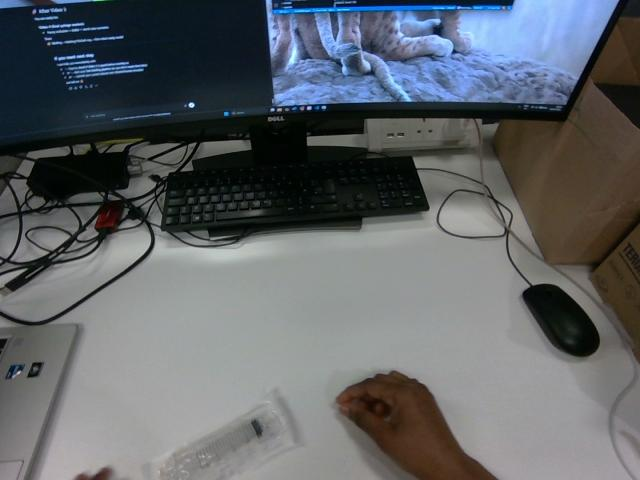syringe: (146, 391, 295, 479)
